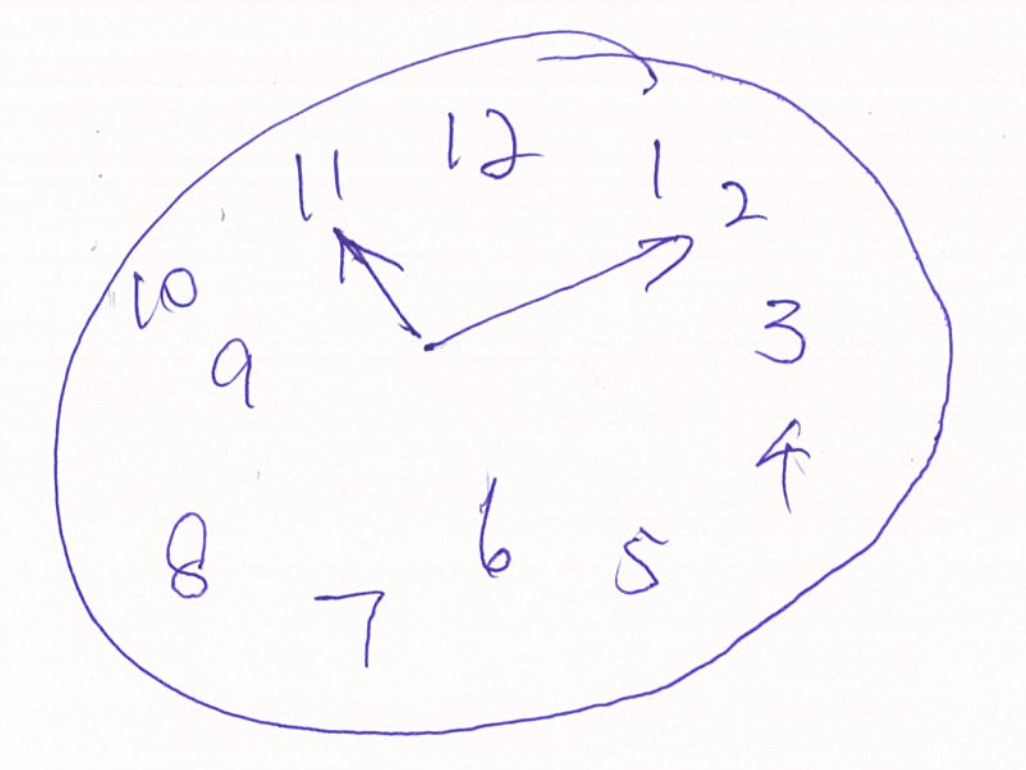1: (643, 137, 670, 206)
10: (127, 264, 200, 327)
11: (282, 146, 347, 224)
12: (445, 89, 542, 183)
2: (711, 177, 773, 228)
3: (754, 296, 810, 371)
4: (757, 417, 811, 516)
5: (607, 525, 669, 600)
6: (467, 476, 517, 581)
7: (310, 578, 382, 675)
8: (161, 509, 215, 604)
9: (207, 337, 266, 414)
contour: (46, 27, 959, 740)
hand: (331, 228, 695, 356)
top_left_arrow: (330, 226, 417, 338)
top_right_arrow: (422, 232, 696, 350)
